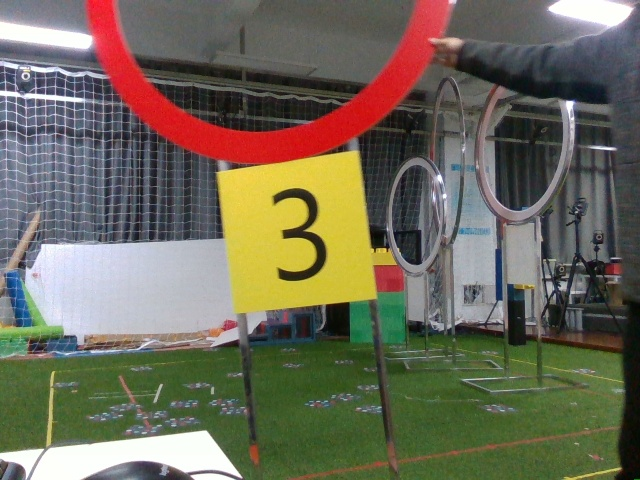target: (232, 167, 364, 305)
